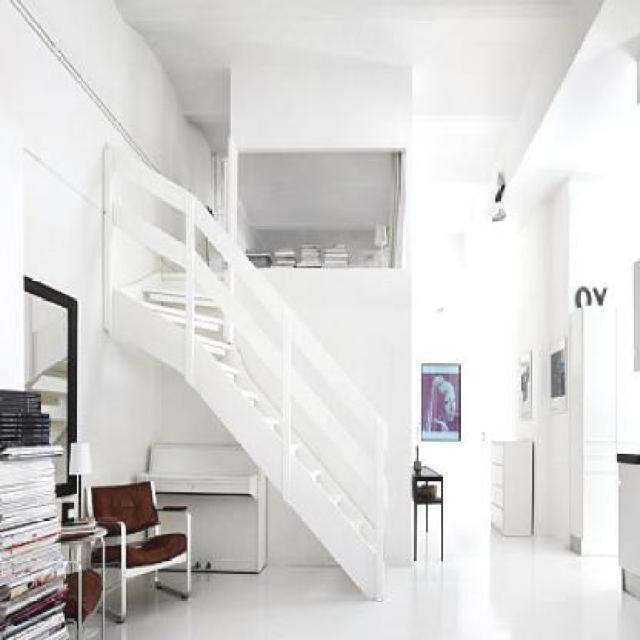stair: (98, 138, 414, 624)
